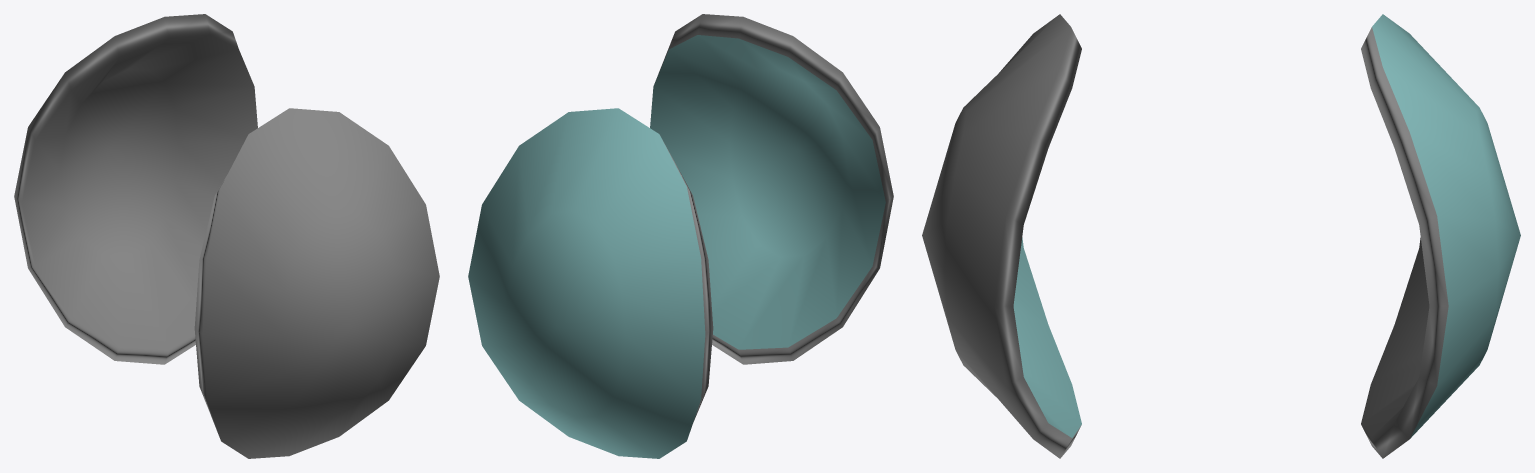
Rendered from convex concave.fbx.
3 renders of one model, left to right at view 1: azimuth 30°, elevation 25°; view 2: azimuth 150°, elevation 25°; view 3: azimuth 270°, elevation 25°, orthographic. The views are drawn at different scales.
Visible parts, largest first — view 1: concave, convex; view 2: convex, concave; view 3: convex, concave.
Boxes of the visible parts, x1=… form: concave: x1=194, y1=108, x2=439, y2=458; convex: x1=14, y1=14, x2=257, y2=364; convex: x1=468, y1=108, x2=713, y2=458; concave: x1=650, y1=14, x2=893, y2=364; convex: x1=1361, y1=14, x2=1520, y2=458; concave: x1=922, y1=14, x2=1081, y2=458.
Bounding box in the file's own units: 14.91 × 20.9 × 27.05.
